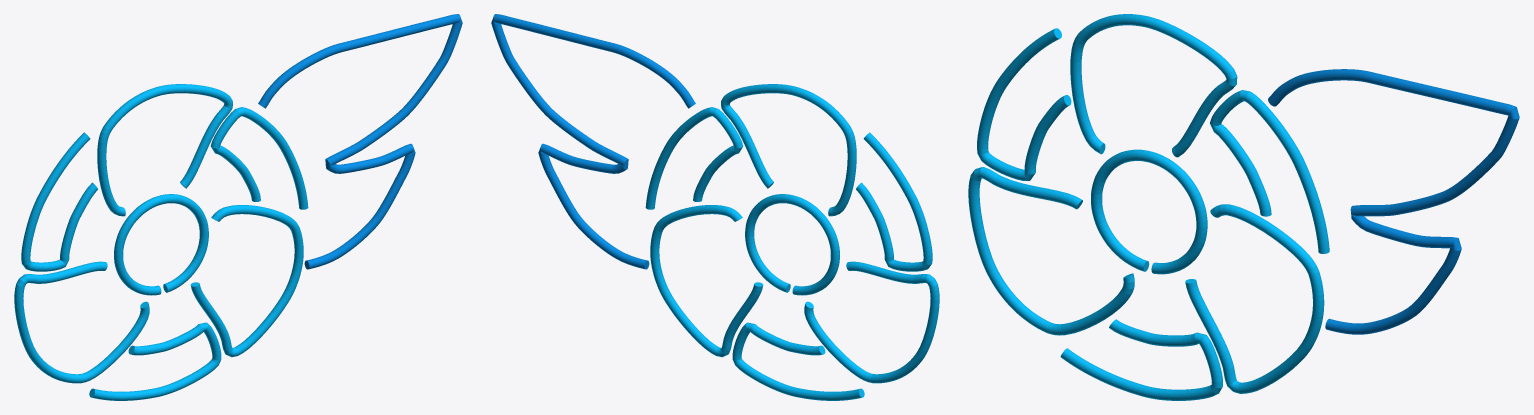
Rendered from Neon_tylkowiatraki.fbx.
The picture shows the model from 3 angles, left to right: view 1: azimuth 30°, elevation 25°; view 2: azimuth 150°, elevation 25°; view 3: azimuth 330°, elevation 25°; orthographic projection. The views are drawn at different scales.
Parts seen in each view (by area): view 1: Cylinder.002, Cylinder.001, Cylinder, Cylinder.003, Cylinder.007, Cylinder.004, Cylinder.006, Cylinder.005; view 2: Cylinder.002, Cylinder.001, Cylinder, Cylinder.003, Cylinder.007, Cylinder.004, Cylinder.006, Cylinder.005; view 3: Cylinder.002, Cylinder.003, Cylinder, Cylinder.001, Cylinder.007, Cylinder.005, Cylinder.006, Cylinder.004.
Part boxes in pixels (x1,y1,x2,y2): Cylinder.002: (258, 14, 462, 269); Cylinder.001: (97, 84, 232, 216); Cylinder: (14, 261, 149, 383); Cylinder.003: (190, 205, 303, 357); Cylinder.007: (114, 194, 208, 295); Cylinder.004: (21, 132, 97, 271); Cylinder.006: (89, 322, 221, 400); Cylinder.005: (210, 107, 308, 209); Cylinder.002: (491, 14, 695, 269); Cylinder.001: (721, 84, 856, 216); Cylinder: (804, 261, 939, 383); Cylinder.003: (650, 205, 763, 357); Cylinder.007: (745, 194, 839, 295); Cylinder.004: (856, 132, 932, 271); Cylinder.006: (732, 322, 864, 400); Cylinder.005: (645, 107, 743, 209); Cylinder.002: (1268, 69, 1519, 334); Cylinder.003: (1185, 204, 1324, 393); Cylinder: (968, 167, 1134, 335); Cylinder.001: (1070, 14, 1237, 157); Cylinder.007: (1091, 149, 1207, 274); Cylinder.005: (1210, 90, 1329, 253); Cylinder.006: (1060, 319, 1222, 400); Cylinder.004: (977, 28, 1071, 180).
Size of the model in its own units: 1121 by 741 by 20.
